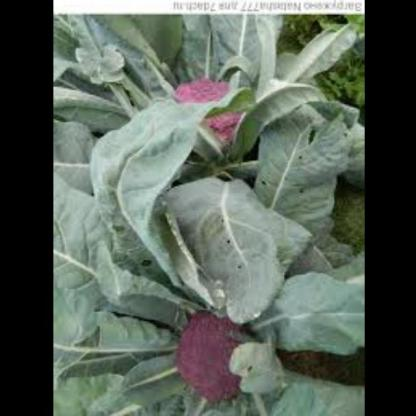cayliflower: (163, 302, 263, 408), (154, 68, 256, 148)
